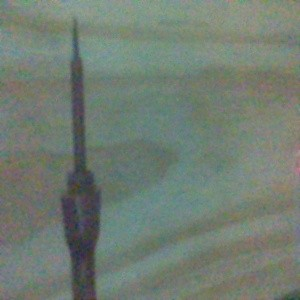solder: (59, 18, 104, 300)
